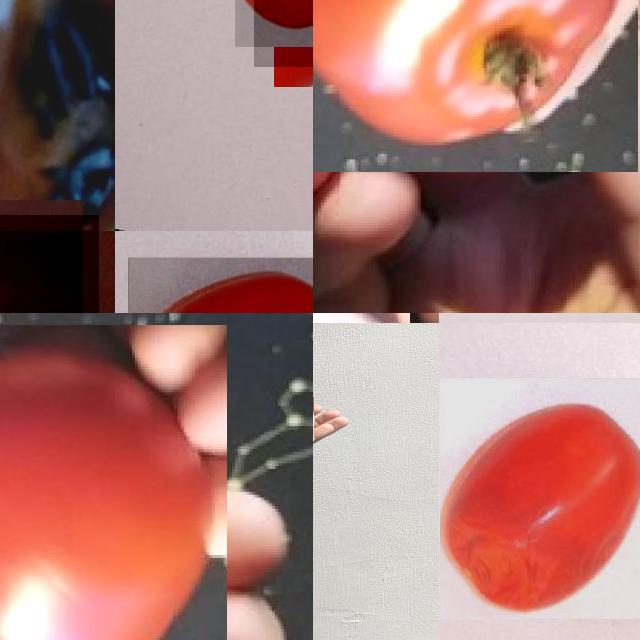0: (254, 0, 313, 67)
1: (0, 0, 115, 231)
Fresh Tomato: (0, 325, 227, 640), (313, 0, 637, 172)
Rotten Tomato: (439, 378, 640, 619)
